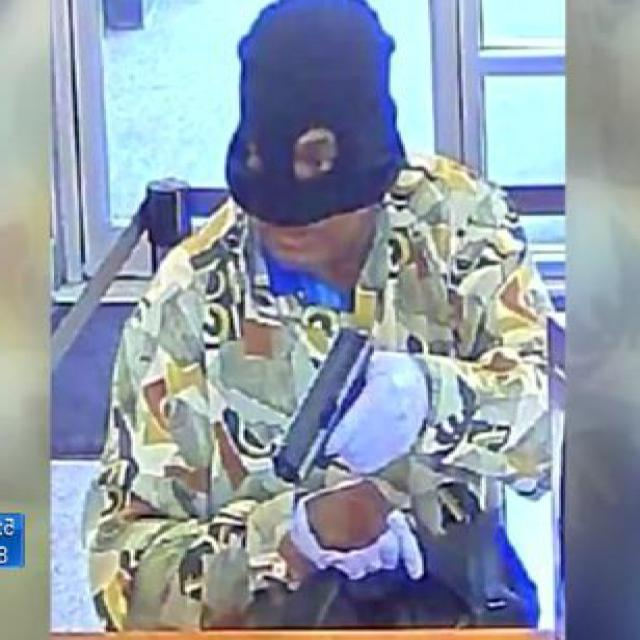Gun: (266, 322, 414, 485)
